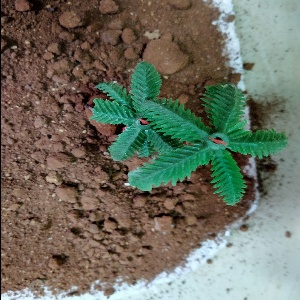plant: (98, 67, 262, 198)
